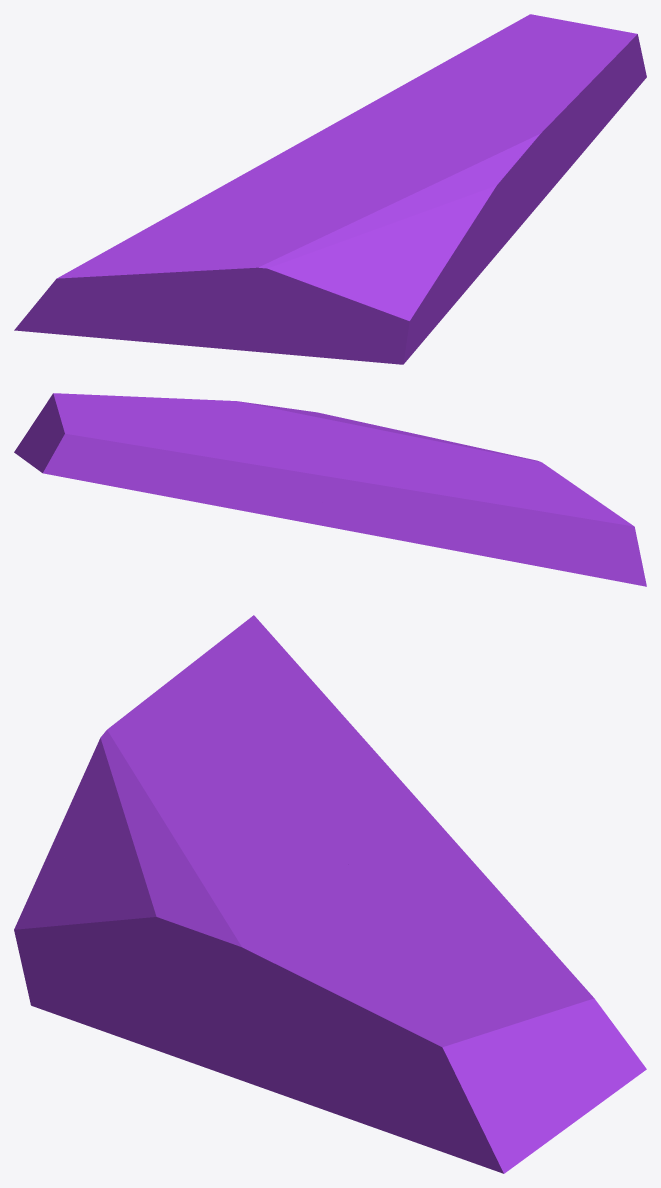
The model's file is Window_144_6_chunks.fbx.
3 views of the same model, one above another, from view 1: azimuth 30°, elevation 25°; view 2: azimuth 150°, elevation 25°; view 3: azimuth 270°, elevation 25° (orthographic). The views are drawn at different scales.
Parts seen in each view (by area): view 1: Window_144_6_0, Window_144_6_1, Window_144_6_2, Window_144_6_3; view 2: Window_144_6_1, Window_144_6_0, Window_144_6_3, Window_144_6_2; view 3: Window_144_6_1, Window_144_6_2, Window_144_6_0, Window_144_6_3.
Boxes of the visible parts, left/top/right/bottom form: Window_144_6_0: left=14, top=166, right=402, bottom=364; Window_144_6_1: left=338, top=14, right=646, bottom=241; Window_144_6_2: left=362, top=136, right=537, bottom=364; Window_144_6_3: left=257, top=121, right=435, bottom=214; Window_144_6_1: left=14, top=393, right=319, bottom=523; Window_144_6_0: left=313, top=439, right=646, bottom=586; Window_144_6_3: left=296, top=430, right=423, bottom=502; Window_144_6_2: left=243, top=402, right=445, bottom=440; Window_144_6_1: left=233, top=842, right=646, bottom=1173; Window_144_6_2: left=14, top=812, right=273, bottom=1077; Window_144_6_0: left=37, top=615, right=397, bottom=878; Window_144_6_3: left=162, top=777, right=455, bottom=880.
Size of the model in its own units: 761 by 158 by 368.
